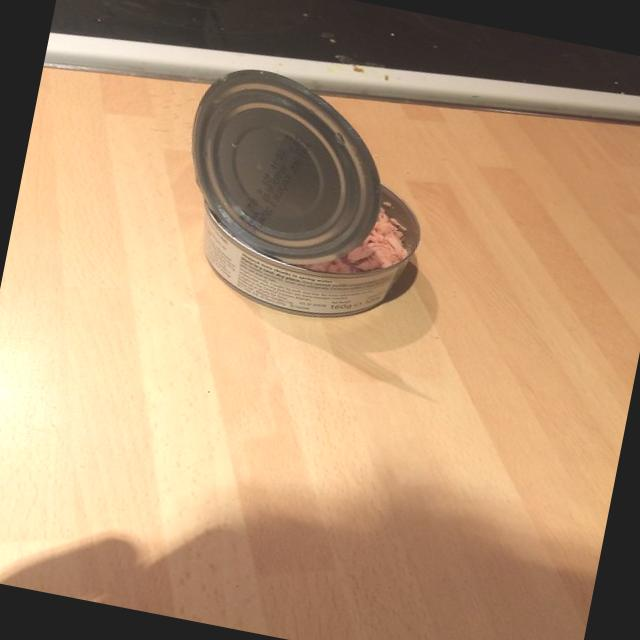Trash: (164, 57, 448, 336)
